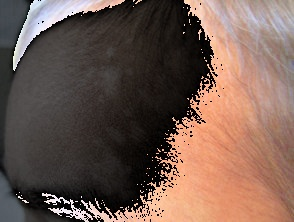vitiligo: (40, 0, 258, 222)
